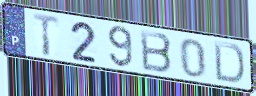0: (178, 37, 209, 79)
2: (67, 18, 100, 65)
9: (106, 25, 134, 69)
B: (139, 28, 174, 75)
D: (212, 39, 246, 85)
T: (32, 12, 61, 58)
